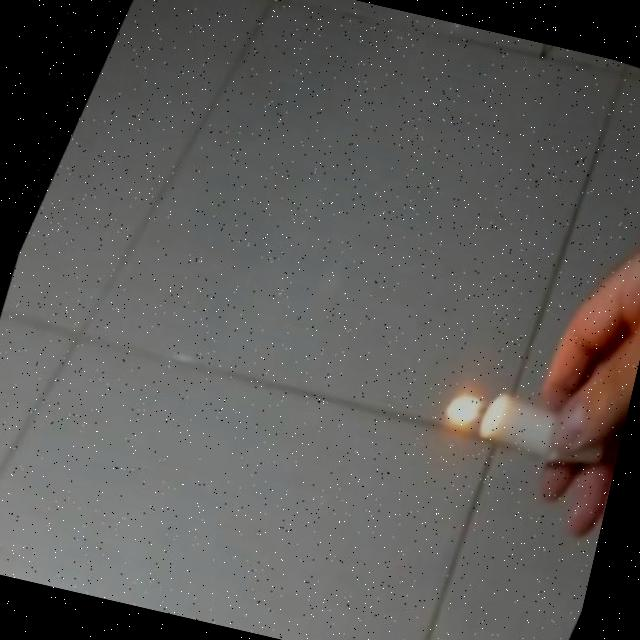fire: (432, 379, 488, 436)
